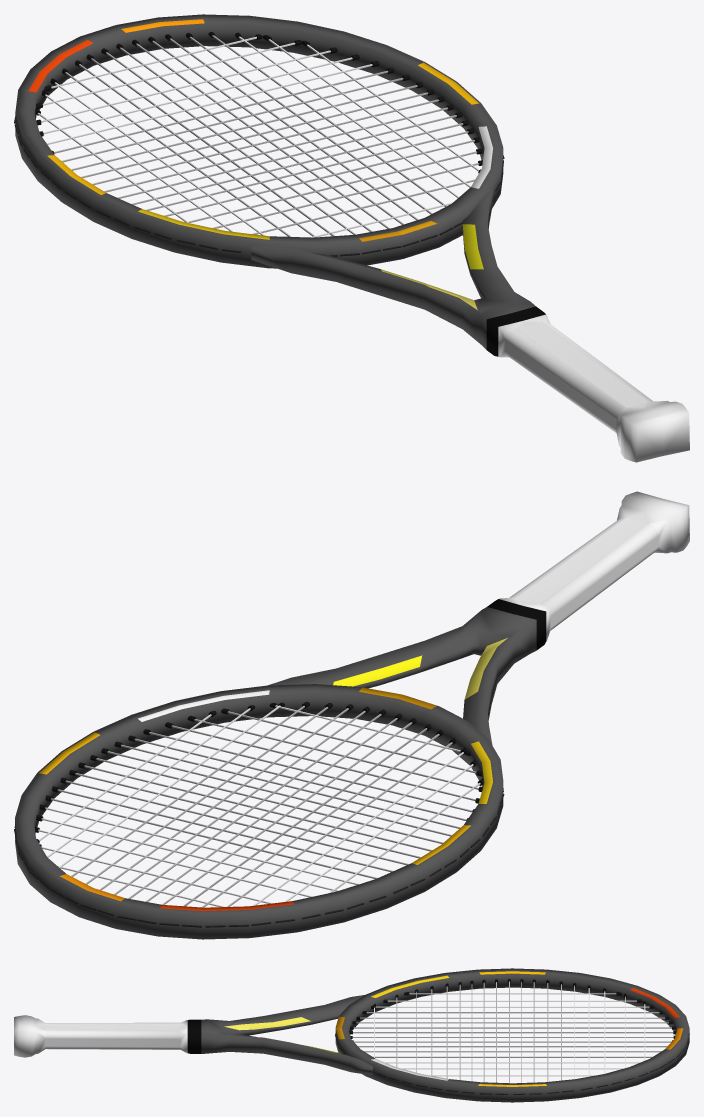
File: raquetaypelota9 (2).fbx
3 renders of one model, top to bottom at view 1: azimuth 30°, elevation 25°; view 2: azimuth 150°, elevation 25°; view 3: azimuth 270°, elevation 25°, orthographic. The views are drawn at different scales.
Visible parts, largest first — view 1: Cube.031; view 2: Cube.031; view 3: Cube.031.
Part boxes in pixels (x1,y1,x2,y2): Cube.031: (14,14,689,462); Cube.031: (14,491,689,939); Cube.031: (14,968,689,1102).
Bounding box in the file's own units: 97.86 × 9.89 × 234.
Materials: 75 (73 with a texture image).
